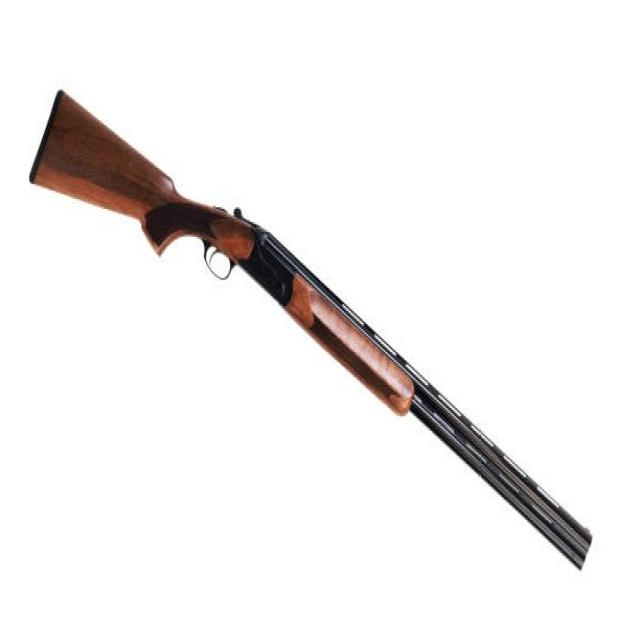rifle: (26, 83, 596, 586)
